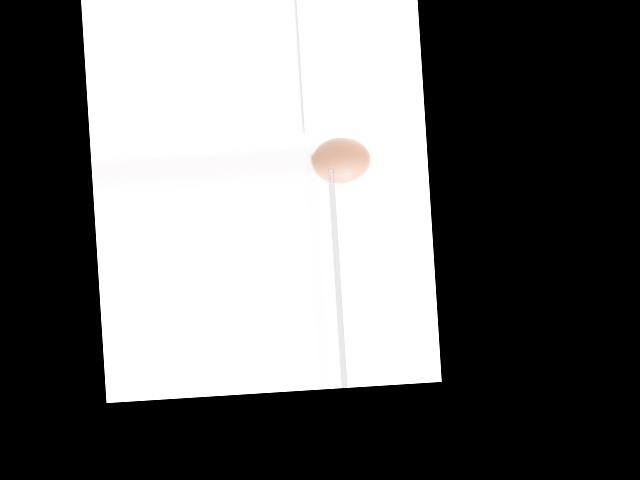egg: (311, 136, 371, 185)
